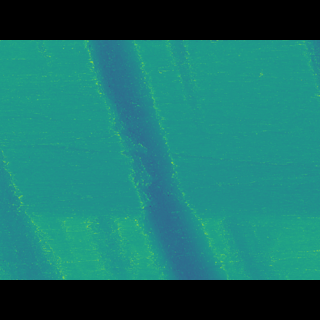Loch: (77, 69, 284, 251), (0, 151, 69, 250)
